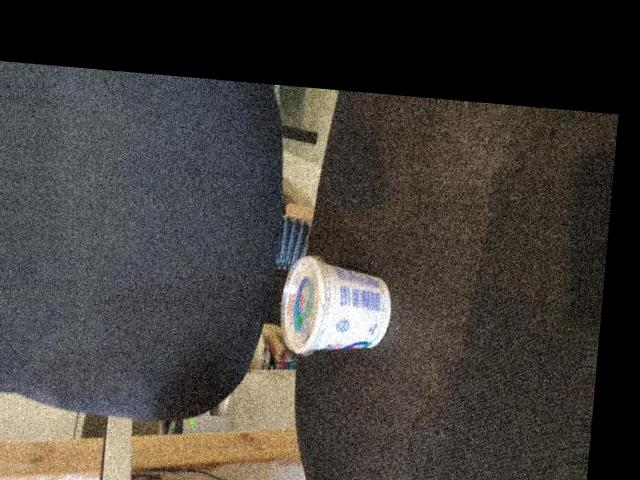cotage: (273, 257, 404, 359)
